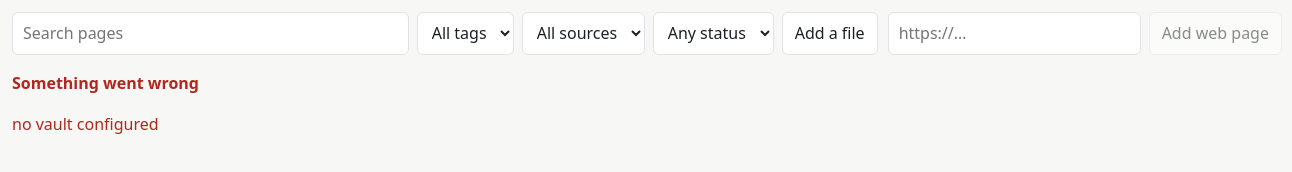
Test: shows errors from the API
The image size is (1292, 172).
Expected: the text "no vault configured" is shown, [12, 113, 158, 135]
In the search field labelled "Search pages": (210, 33) [12, 12, 409, 55], type "x"
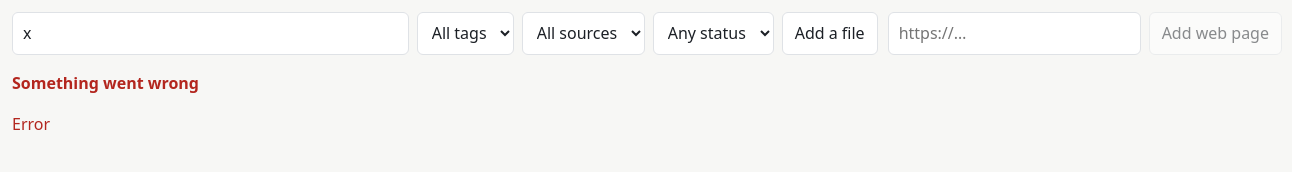
Expected: the text "Error" is shown, [12, 113, 50, 135]
